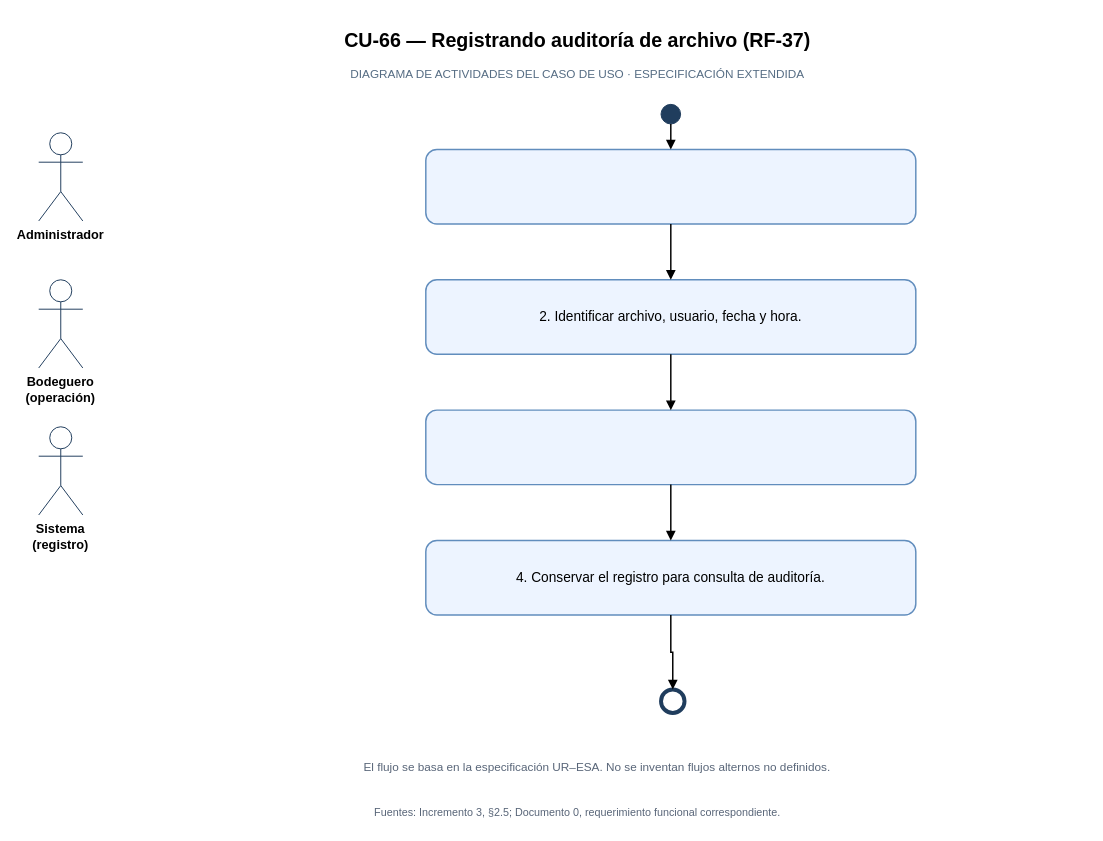
The diagram is 1103 pixels wide and 841 high, and some of its shapes have lost their labels. Each missing label, with the centre of its shape:
"1. Iniciar una operación de importación o exportación." belongs at [670,186].
"3. Registrar la operación en la bitácora log_archivo." belongs at [670,447].
